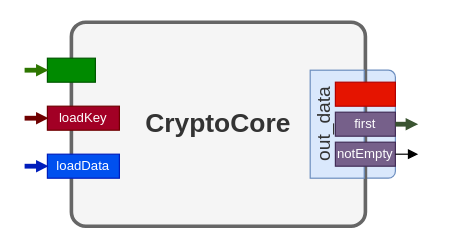
This 449x248 diagram has some shape labels left out. Each missing label, with the box of its shape:
deq: (334, 81, 395, 106)
start: (46, 57, 95, 82)
